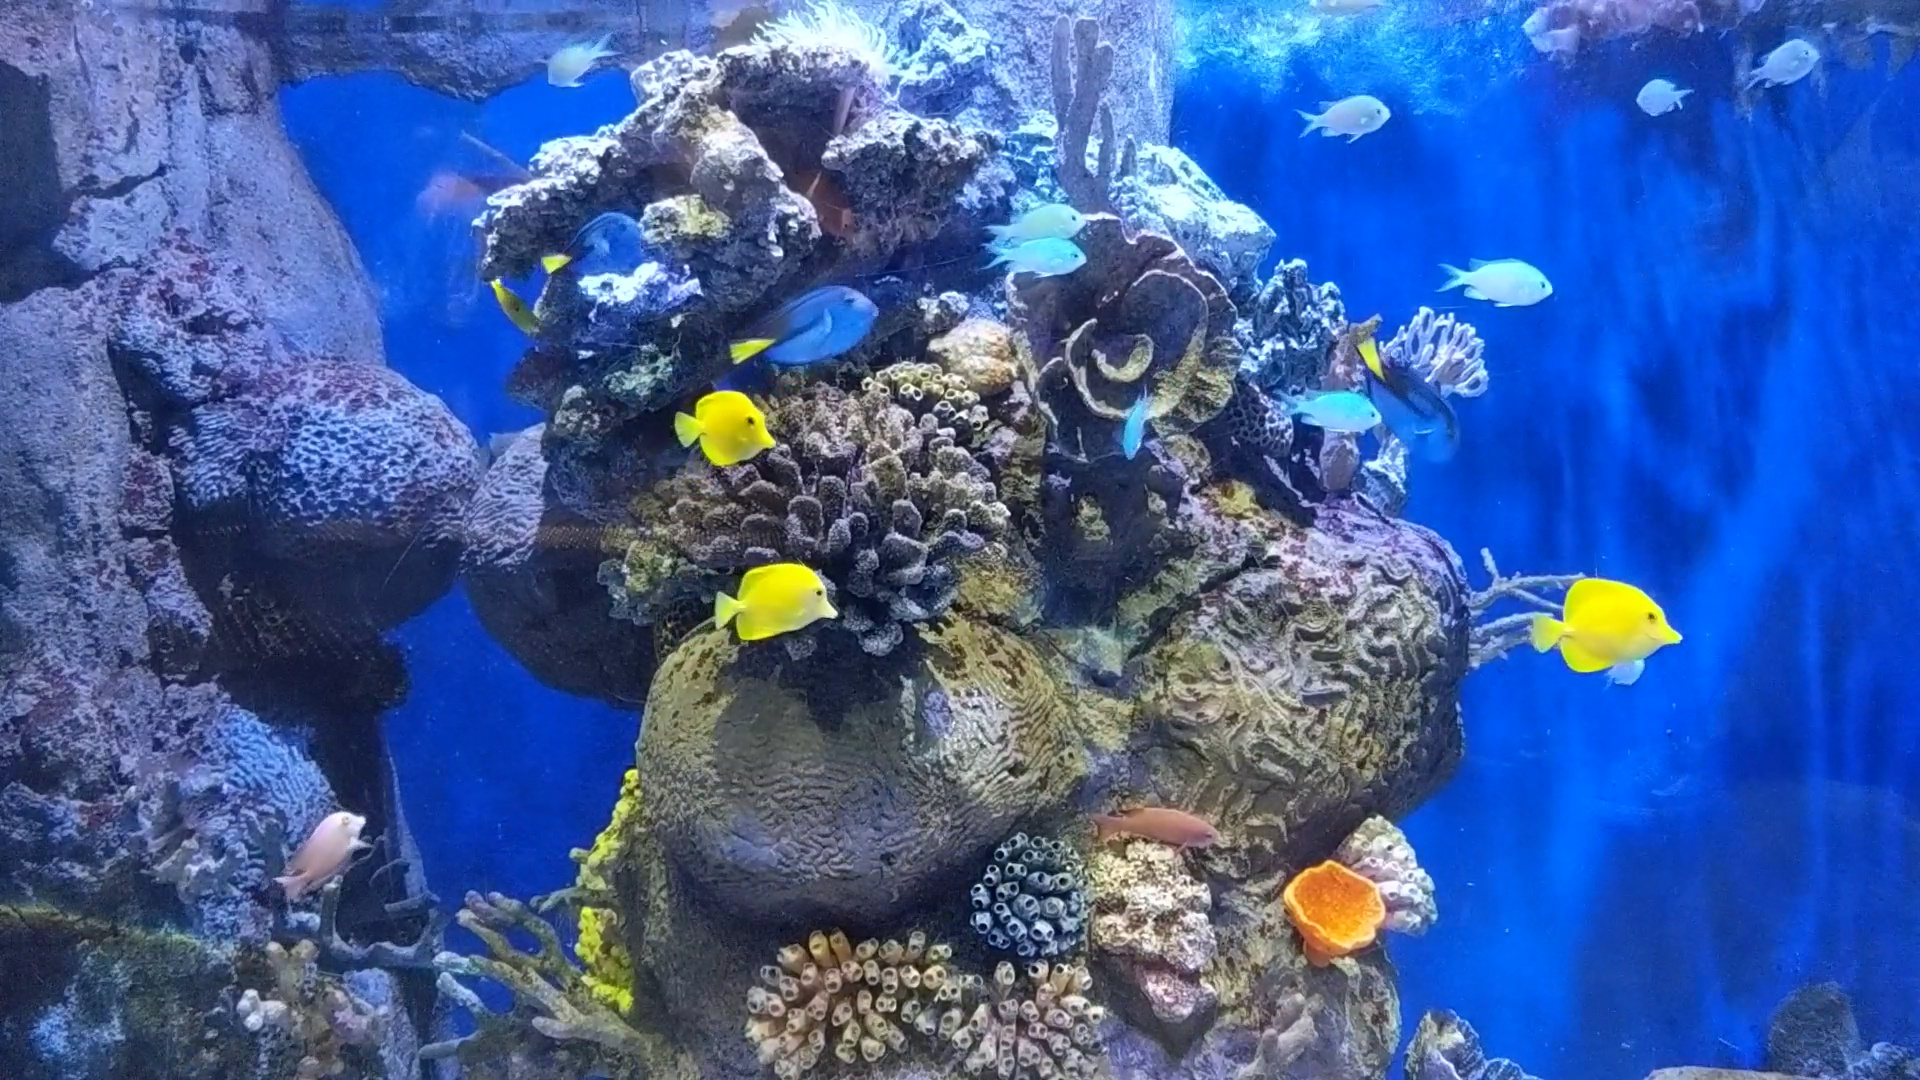blue tang surgeonfish: (1342, 332, 1472, 473), (715, 274, 890, 371), (539, 210, 651, 295)
damselfish: (1431, 244, 1559, 320), (1290, 90, 1407, 156), (1265, 384, 1387, 436), (1743, 30, 1832, 103), (988, 193, 1088, 251), (535, 30, 621, 98), (1109, 378, 1163, 467), (978, 241, 1100, 278), (1619, 75, 1697, 121)
saddle butterfly fish: (1524, 571, 1691, 683), (713, 559, 835, 650), (671, 389, 789, 475), (481, 266, 562, 355)
